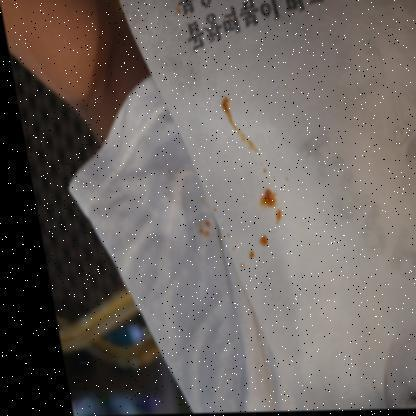kimchi: (218, 93, 268, 163), (257, 186, 289, 226), (195, 215, 217, 238), (238, 265, 252, 279), (258, 237, 273, 249), (249, 245, 260, 261), (261, 164, 272, 175), (212, 200, 221, 213)
